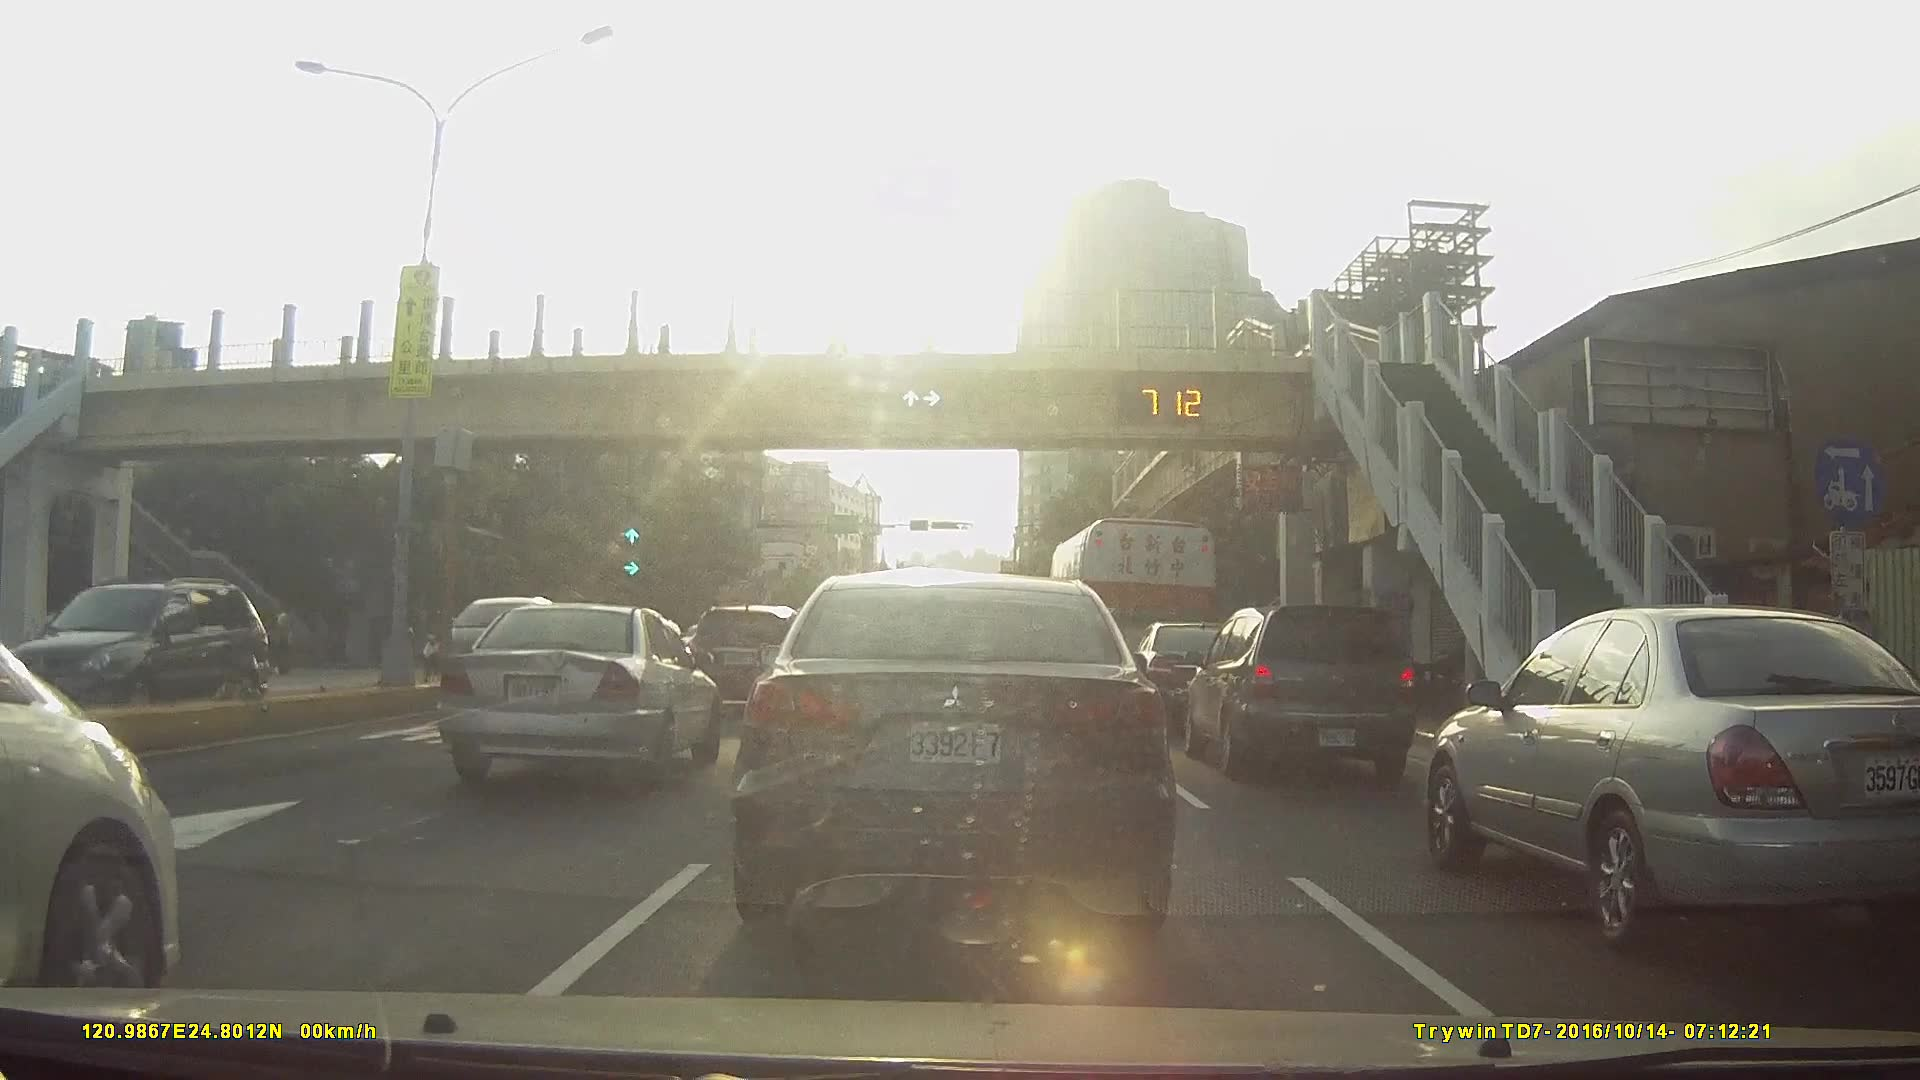vehicle: (1428, 604, 1920, 957), (728, 567, 1179, 943), (0, 597, 204, 1013), (444, 603, 727, 782), (1185, 604, 1433, 785), (17, 572, 278, 728), (1131, 618, 1269, 731), (419, 592, 566, 688), (688, 603, 811, 711)
